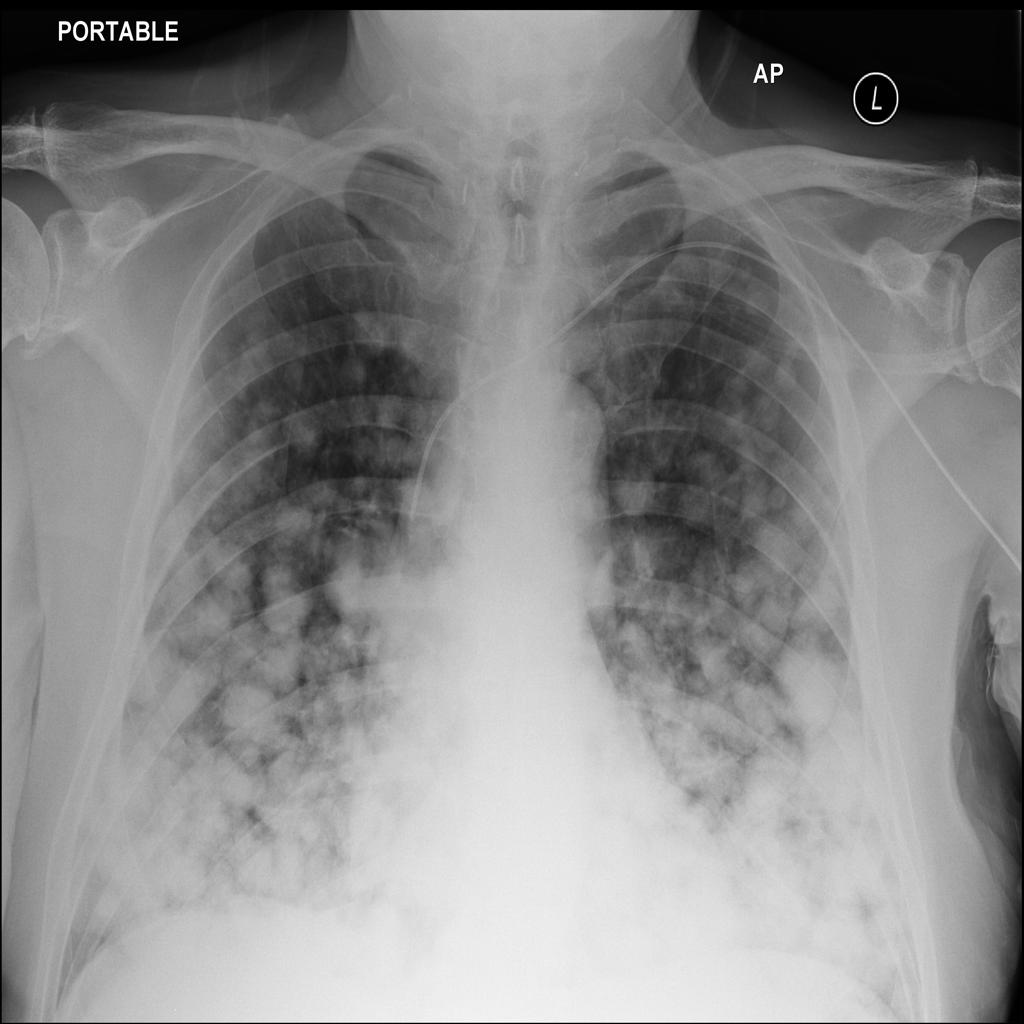nodule: (773, 641, 849, 730), (215, 672, 291, 748), (672, 456, 737, 541), (231, 832, 303, 907), (234, 638, 304, 714), (222, 314, 286, 397), (727, 378, 794, 456), (150, 840, 221, 913), (780, 568, 849, 641), (197, 754, 265, 828), (753, 513, 819, 587), (732, 587, 798, 660), (179, 584, 247, 654), (198, 526, 266, 595), (606, 451, 669, 525), (281, 401, 328, 461), (276, 489, 327, 543), (760, 352, 808, 405), (733, 274, 782, 325), (333, 346, 374, 402)
